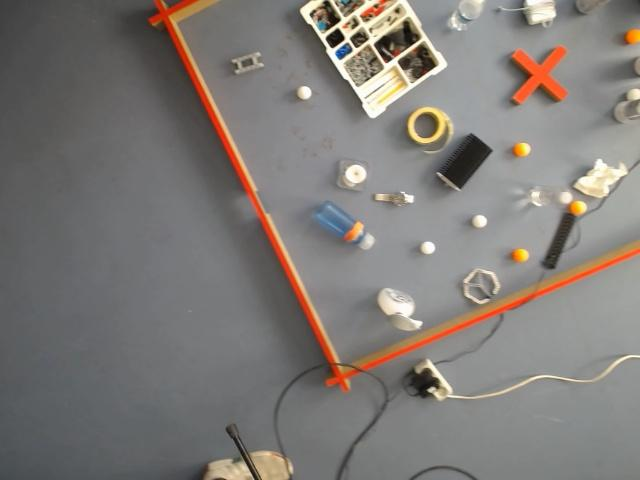orange: (568, 200, 586, 216), (510, 248, 530, 262), (514, 143, 530, 157), (626, 29, 640, 43)
white: (418, 240, 438, 257), (297, 86, 311, 99), (473, 215, 487, 227), (628, 89, 640, 100)
